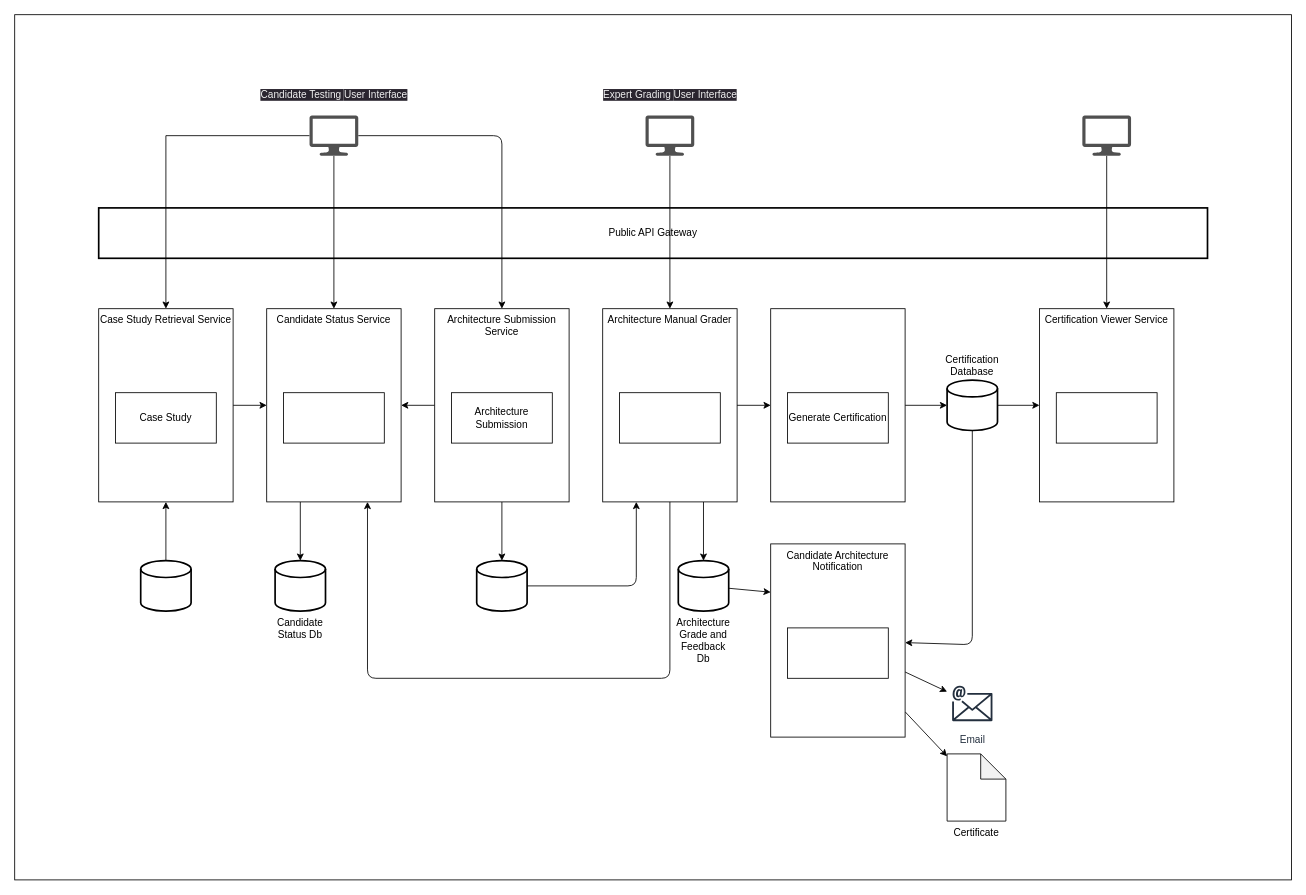
This 1306x895 diagram has some shape labels left out. Each missing label, with the box of its shape:
Architecture Grading: (619, 392, 720, 443)
Candidate Architecture Results: (787, 627, 888, 678)
Candidate Certification Service: (770, 308, 905, 502)
Candidate Progress: (283, 392, 384, 443)
Case Study Db: (139, 559, 192, 612)
Certification Viewer User Interface: (1082, 115, 1131, 155)
Submission Ungraded Db: (475, 559, 528, 612)
View Certification: (1055, 392, 1157, 443)
